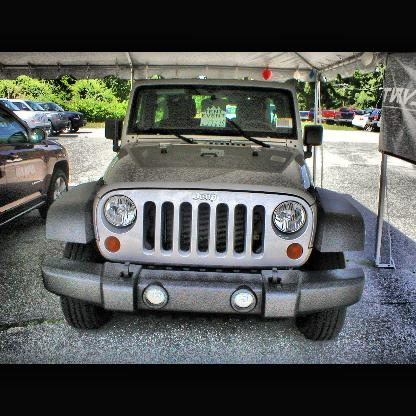Jeep Wrangler SUV 2012: (44, 80, 365, 342)
